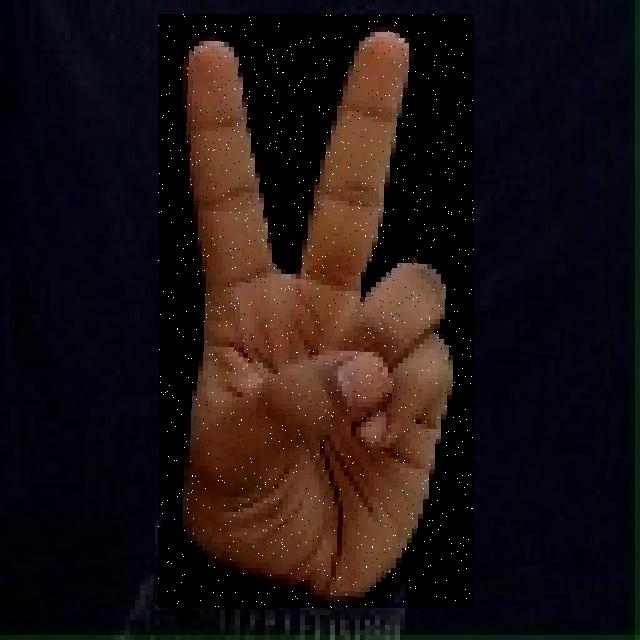No: (158, 14, 474, 608)
